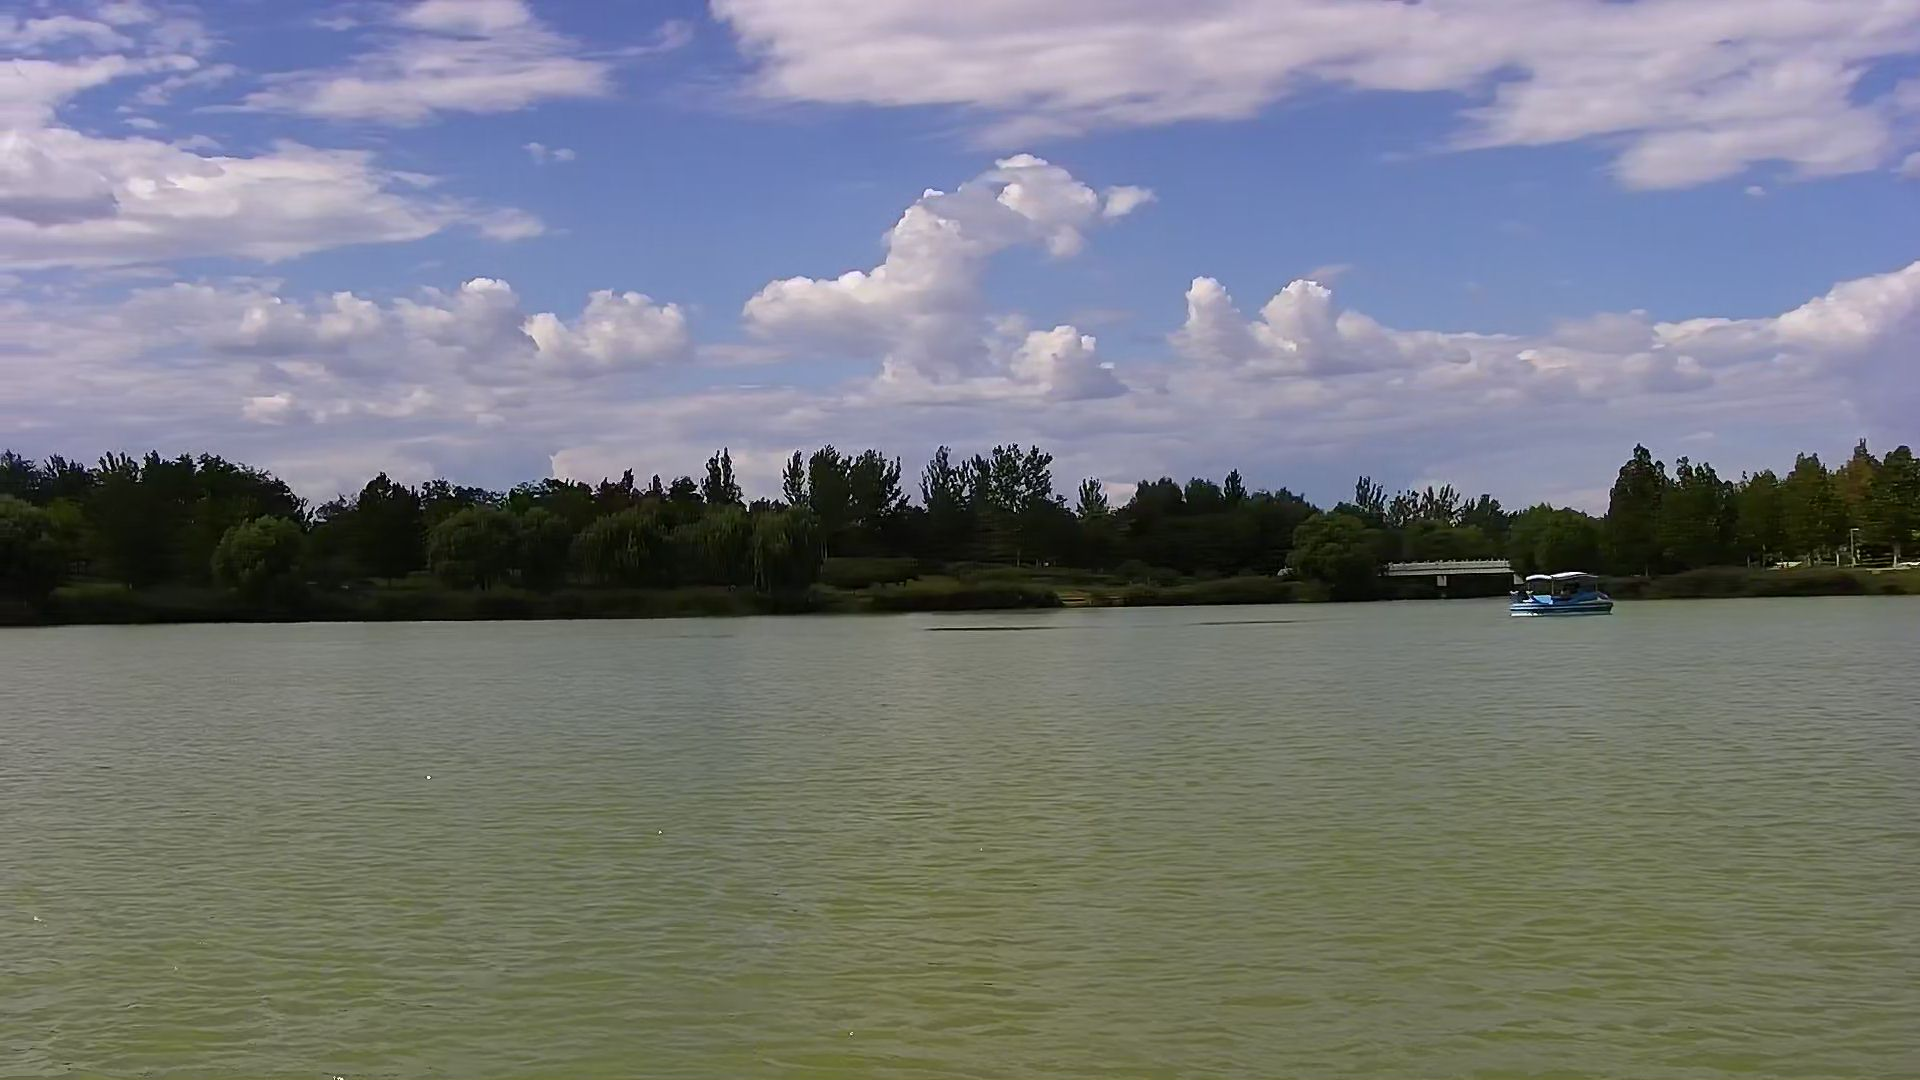boat: (1514, 568, 1610, 615)
bridge: (1393, 556, 1511, 593)
